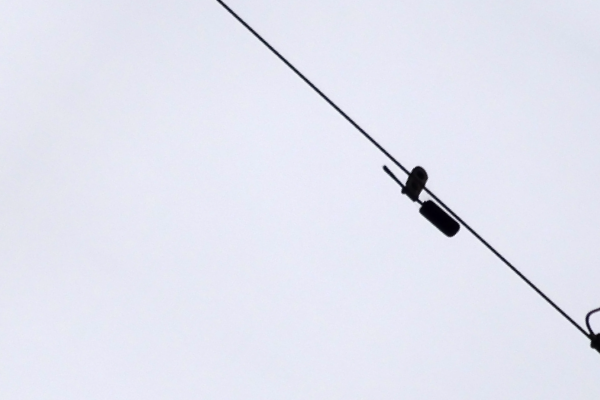damper_defect: (379, 156, 462, 239)
